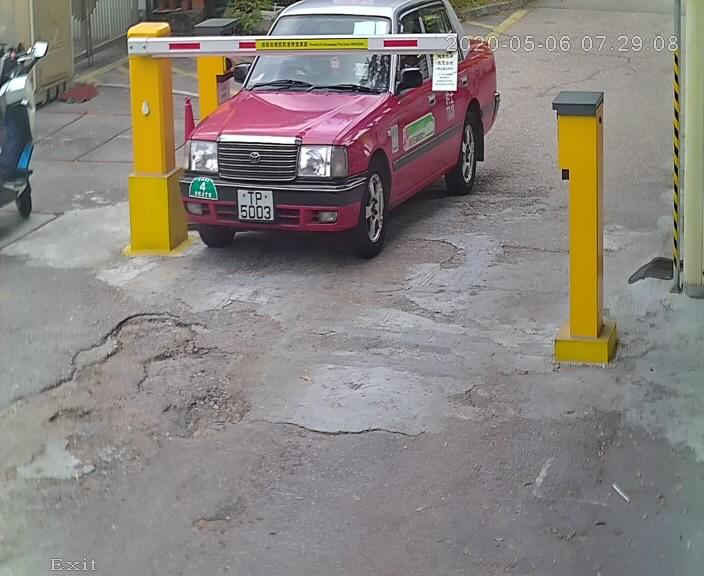Car: (158, 1, 512, 268)
License Plate: (229, 183, 282, 230)
